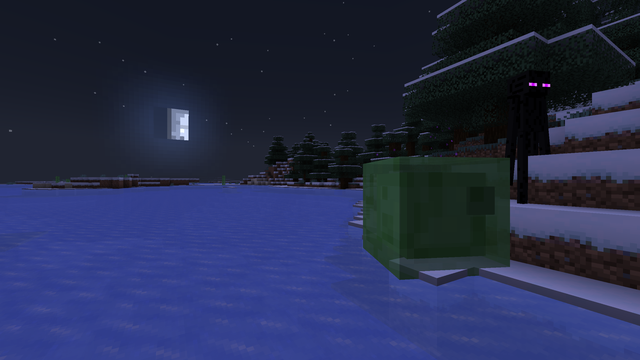endermens: (504, 62, 551, 210)
slimes: (352, 149, 506, 287)
